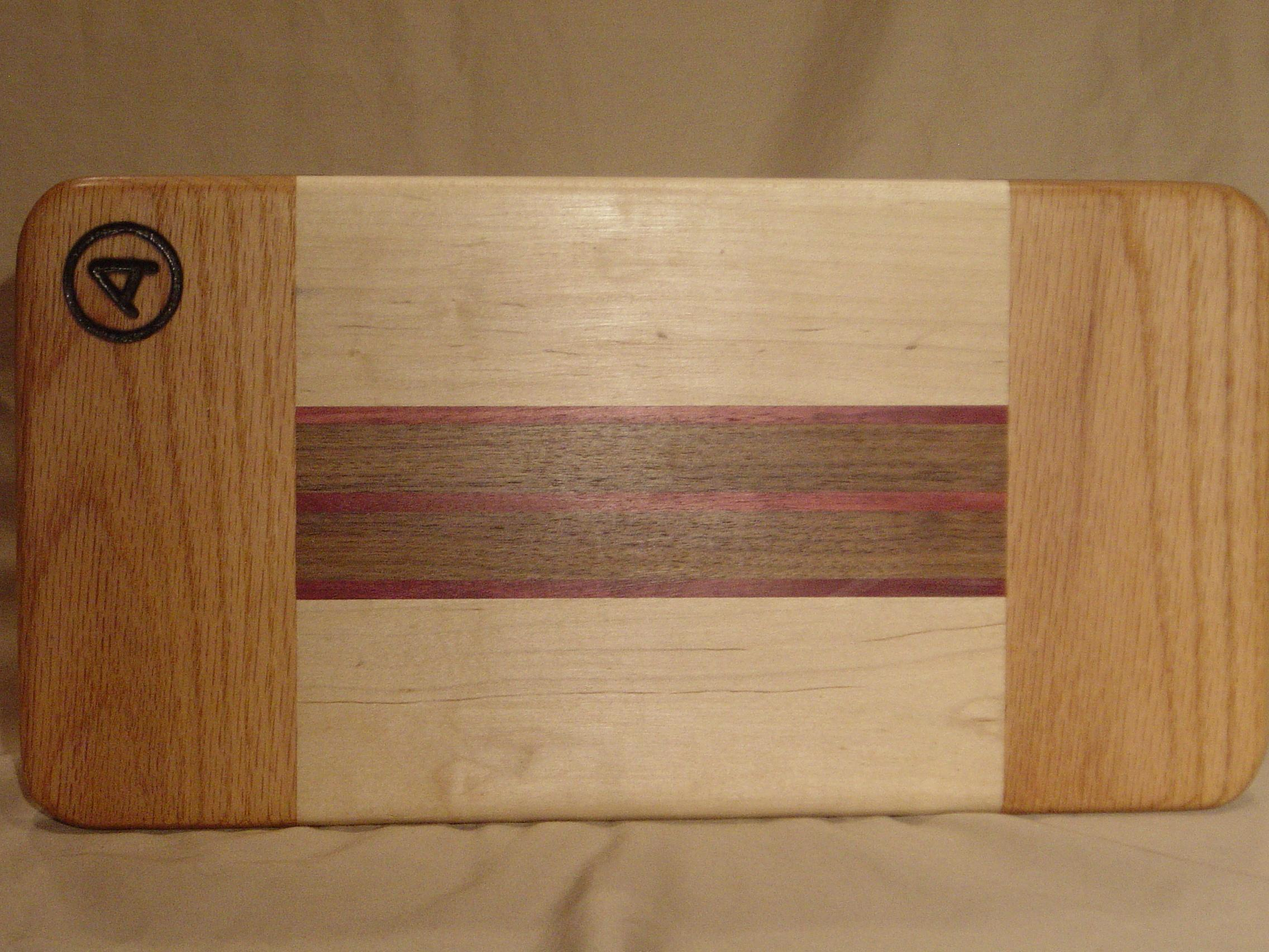gloved_hand: (6, 157, 1269, 846)
